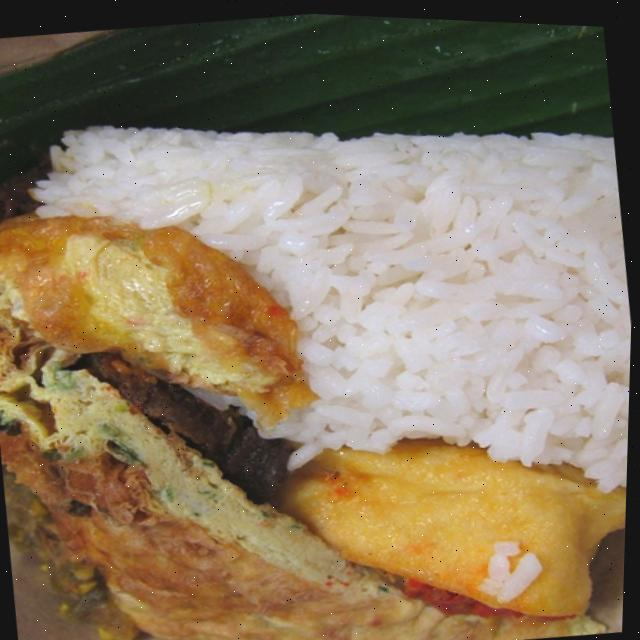米饭主食: (0, 26, 639, 640)
